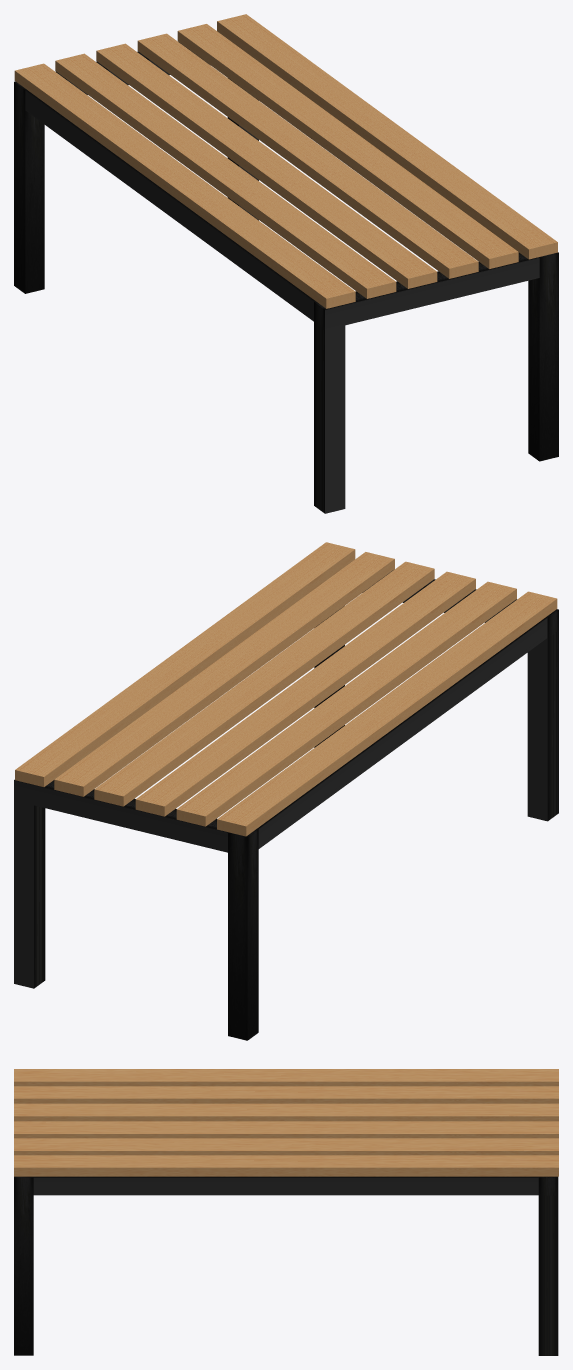
File: Locker Room Bench.FBX
3 views of the same model, one above another, from view 1: azimuth 30°, elevation 25°; view 2: azimuth 150°, elevation 25°; view 3: azimuth 270°, elevation 25° (orthographic). The views are drawn at different scales.
Visible parts, largest first — view 1: Box002, Box001, Box003, Box008, Box005, Box007, Box006, Box004; view 2: Box001, Box005, Box006, Box007, Box003, Box008, Box004, Box002; view 3: Box002, Box004, Box007, Box003, Box005, Box006, Box008, Box001.
Part boxes in pixels (x1,y1,x2,y2): Box002: (314,252,558,513); Box001: (14,42,342,321); Box003: (14,63,355,308); Box008: (55,53,396,298); Box005: (137,33,478,278); Box007: (96,43,437,288); Box006: (177,24,518,268); Box004: (217,14,557,259); Box001: (14,609,557,1040); Box005: (94,561,434,806); Box006: (54,552,394,796); Box007: (135,571,475,816); Box003: (217,591,557,836); Box008: (176,581,516,826); Box004: (15,542,355,786); Box002: (314,569,558,821); Box002: (14,1176,557,1355); Box004: (14,1155,558,1176); Box007: (14,1103,558,1121); Box003: (14,1069,558,1086); Box005: (14,1121,558,1138); Box006: (14,1138,558,1155); Box008: (14,1086,558,1103); Box001: (538,1176,558,1355).
Size of the model in its own units: 36.06 by 31.57 by 83.12.
2 materials, 2 textured.
